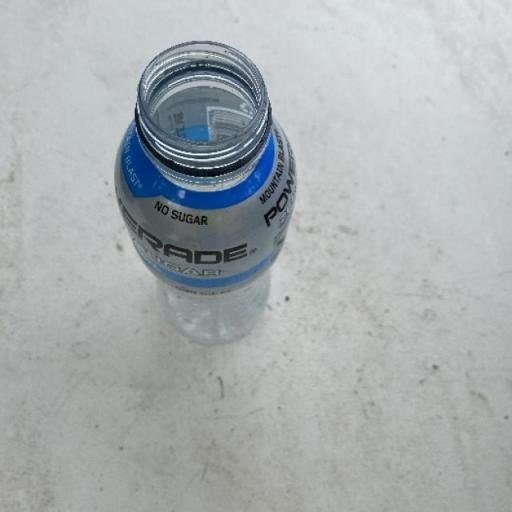plastic: (112, 38, 298, 345)
